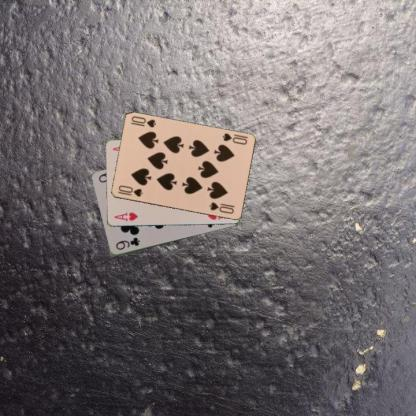10s: (115, 183, 144, 198), (219, 131, 248, 146)
9c: (113, 235, 141, 251)
Ah: (112, 210, 138, 223)
